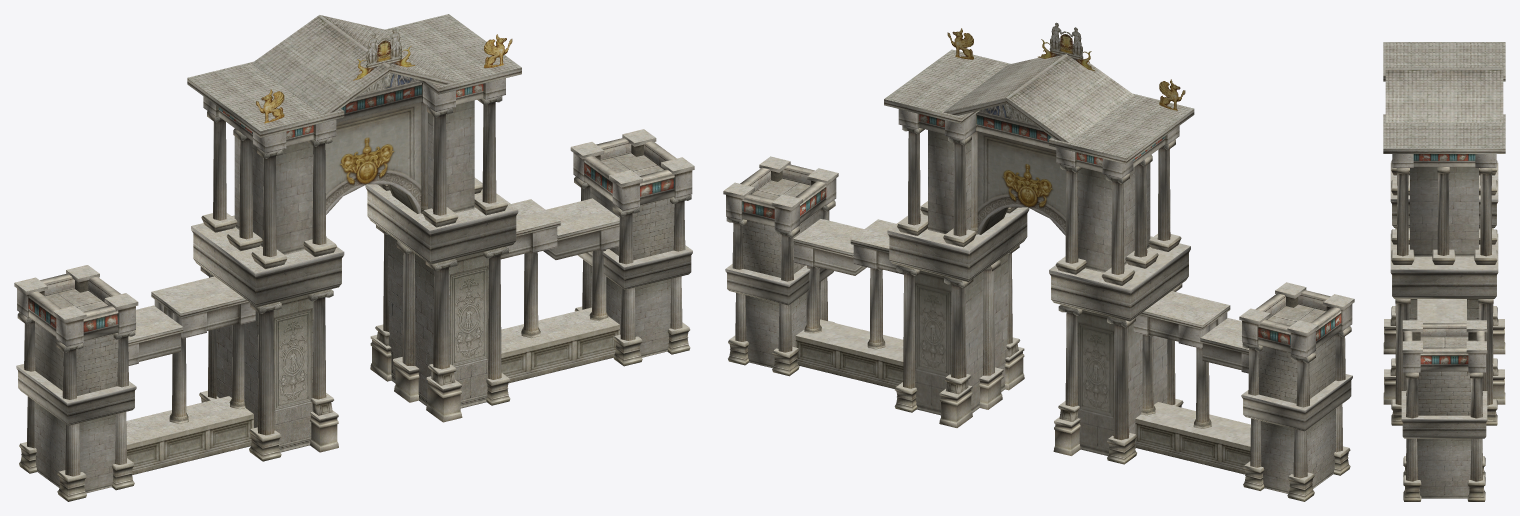
File: jupiter_piety_gate.glb
The picture shows the model from 3 angles, left to right: view 1: azimuth 30°, elevation 25°; view 2: azimuth 150°, elevation 25°; view 3: azimuth 270°, elevation 25°; orthographic projection. The views are drawn at different scales.
Parts seen in each view (by area): view 1: Piety_gate_pillar01, Piety_Gate_wall03, Piety_gate_wall09, Piety_Gate_wall06, Piety_gate_roof, Piety_gate_carve02, Piety_Gate_wall02, piety_gate_wall05, Piety_Gate_wall01, Piety_gate_wall08, Piety_Gate_wall07, Piety_gate_alpha (+1 smaller); view 2: Piety_gate_pillar01, Piety_Gate_wall03, Piety_gate_wall09, Piety_gate_roof, Piety_Gate_wall06, Piety_gate_carve02, Piety_Gate_wall02, piety_gate_wall05, Piety_Gate_wall01, Piety_gate_wall08, Piety_Gate_wall07, Piety_gate_alpha (+1 smaller); view 3: Piety_gate_roof, Piety_gate_wall09, Piety_Gate_wall03, Piety_gate_pillar01, Piety_Gate_wall06, Piety_gate_carve02, Piety_gate_wall08, Piety_Gate_wall07, piety_gate_wall05, Piety_gate_area.
Part boxes in pixels (box(x1,y1,x2,y2)): Piety_gate_pillar01: box(17, 96, 691, 476); Piety_Gate_wall03: box(16, 83, 692, 501); Piety_gate_wall09: box(34, 100, 671, 493); Piety_Gate_wall06: box(14, 129, 694, 478); Piety_gate_roof: box(187, 14, 521, 131); Piety_gate_carve02: box(14, 66, 694, 345); Piety_Gate_wall02: box(273, 252, 488, 452); piety_gate_wall05: box(17, 78, 692, 365); Piety_Gate_wall01: box(325, 102, 421, 214); Piety_gate_wall08: box(35, 186, 674, 395); Piety_Gate_wall07: box(310, 326, 462, 452); Piety_gate_alpha: box(256, 28, 512, 123); Piety_gate_pillar01: box(726, 125, 1351, 478); Piety_Gate_wall03: box(725, 113, 1352, 501); Piety_gate_wall09: box(745, 130, 1335, 493); Piety_gate_roof: box(884, 49, 1193, 158); Piety_Gate_wall06: box(724, 156, 1353, 480); Piety_gate_carve02: box(723, 98, 1354, 354); Piety_Gate_wall02: box(914, 270, 1114, 455); piety_gate_wall05: box(726, 109, 1352, 373); Piety_Gate_wall01: box(977, 131, 1066, 235); Piety_gate_wall08: box(742, 209, 1335, 403); Piety_Gate_wall07: box(939, 339, 1080, 455); Piety_gate_alpha: box(947, 22, 1185, 110); Piety_gate_roof: box(1383, 42, 1505, 148); Piety_gate_wall09: box(1409, 167, 1479, 498); Piety_Gate_wall03: box(1390, 160, 1498, 501); Piety_gate_pillar01: box(1395, 167, 1493, 481); Piety_Gate_wall06: box(1384, 162, 1504, 482); Piety_gate_carve02: box(1383, 76, 1505, 371); Piety_gate_wall08: box(1418, 371, 1470, 415); Piety_Gate_wall07: box(1383, 309, 1505, 404); piety_gate_wall05: box(1392, 154, 1496, 372); Piety_gate_area: box(1412, 337, 1476, 347).
Bounding box in the file's own units: 127 × 77.48 × 25.49.
16 materials, 16 textured.
